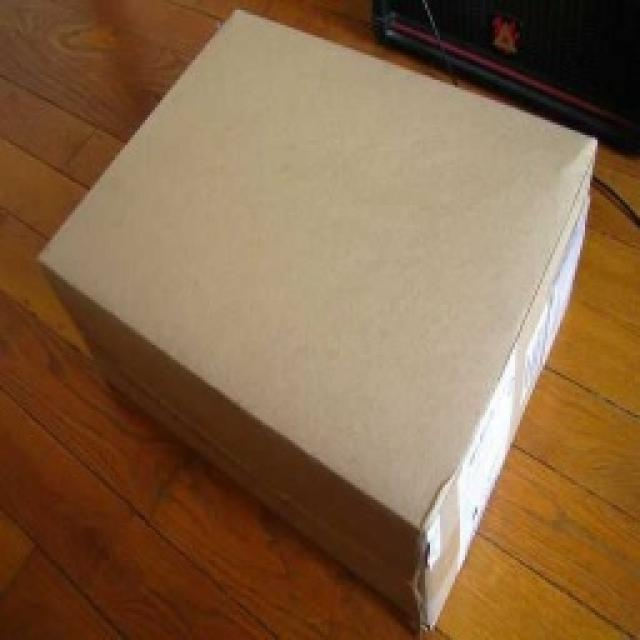box: (42, 22, 612, 625)
